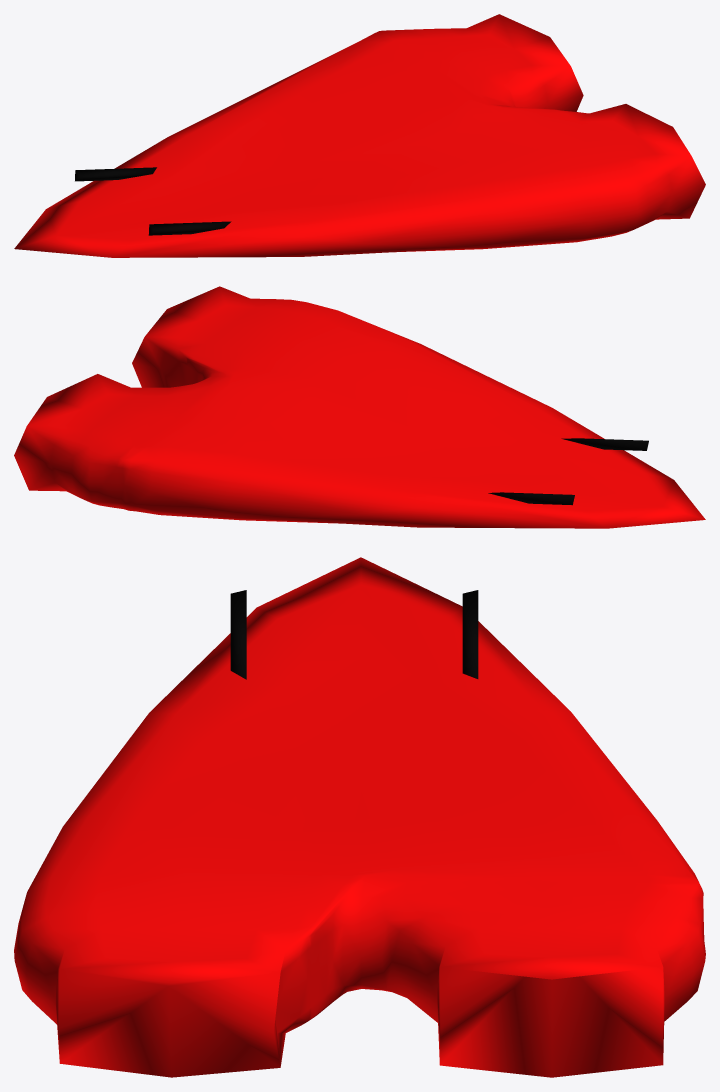
The model's file is nave2.fbx.
3 views of the same model, one above another, from view 1: azimuth 30°, elevation 25°; view 2: azimuth 150°, elevation 25°; view 3: azimuth 270°, elevation 25° (orthographic). The views are drawn at different scales.
Parts seen in each view (by area): view 1: Cube, Cylinder; view 2: Cube, Cylinder; view 3: Cube, Cylinder.
Part boxes in pixels (x1=…): Cube: x1=14, y1=14, x2=705, y2=257; Cylinder: x1=75, y1=167, x2=231, y2=235; Cube: x1=14, y1=286, x2=705, y2=528; Cylinder: x1=488, y1=438, x2=648, y2=505; Cube: x1=14, y1=557, x2=705, y2=1077; Cylinder: x1=230, y1=590, x2=478, y2=679.
Bounding box in the file's own units: 88.15 × 9.83 × 56.12.
